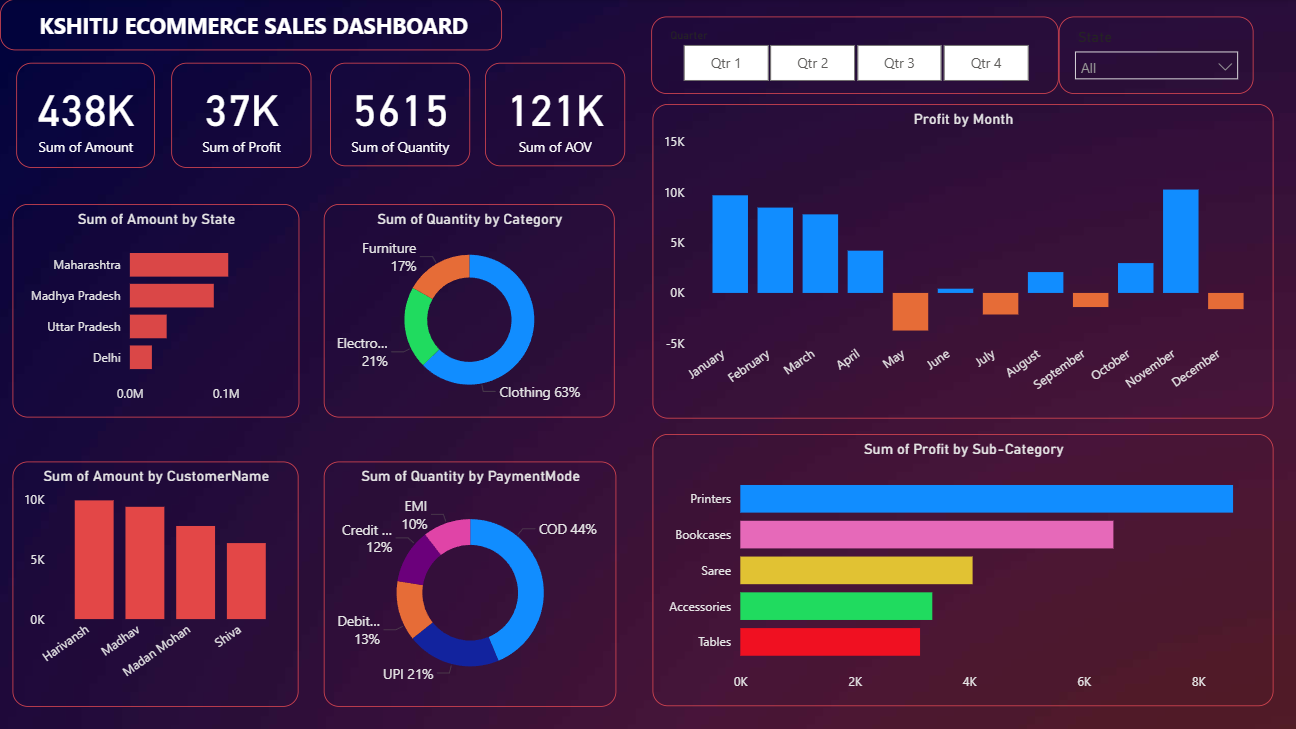

Layout of this report page (visuals, bound fields, positions):
{"tool":"powerbi","page":{"name":"Page 1","canvas":[1280,720],"ordinal":0},"visuals":[{"type":"textbox","box":[0,0,492.6,50.8],"z":0},{"type":"columnChart","title":"Profit by Month","fields":{"Category":["Orders.Order Date.Variation.Date Hierarchy.Month"],"Y":["Sum(Details.Profit)"]},"box":[640.8,102.9,609.3,308.7],"z":1000},{"type":"barChart","fields":{"Category":["Details.Sub-Category"],"Y":["Sum(Details.Profit)"]},"box":[640.5,427,609.8,267.5],"z":2000},{"type":"donutChart","fields":{"Category":["Details.Category"],"Y":["Sum(Details.Quantity)"]},"box":[318.4,201.7,285.4,209.9],"z":3000},{"type":"donutChart","fields":{"Category":["Details.PaymentMode"],"Y":["Sum(Details.Quantity)"]},"box":[317.8,454,287.1,240.5],"z":4000},{"type":"card","fields":{"Values":["Sum(Details.Amount)"]},"box":[16,62.6,136.2,103.1],"z":5000},{"type":"card","fields":{"Values":["Sum(Details.Profit)"]},"box":[168.1,62.6,137.4,103.1],"z":6000},{"type":"card","fields":{"Values":["Sum(Details.Quantity)"]},"box":[323.9,62.6,137.4,101.8],"z":7000},{"type":"card","fields":{"Values":["Sum(Details.AOV)"]},"box":[476.1,62.6,137.4,101.8],"z":8000},{"type":"barChart","fields":{"Category":["Orders.State"],"Y":["Sum(Details.Amount)"]},"box":[12.3,201.7,281.3,209.9],"z":9000},{"type":"columnChart","fields":{"Category":["Orders.CustomerName"],"Y":["Sum(Details.Amount)"]},"box":[12.3,454,281,240.5],"z":10000},{"type":"slicer","fields":{"Values":["Orders.Order Date.Variation.Date Hierarchy.Quarter"]},"box":[639.3,17.2,400,76.1],"z":11000},{"type":"slicer","fields":{"Values":["Orders.State"]},"box":[1039.3,17.2,191.4,76.1],"z":12000}]}

Visuals, with their boxes in screenshot pixels (x1, y1, x2, y2), scaled from the page's 1280x720 canvas onto the 1296x729 screenshot:
textbox: [x1=0, y1=0, x2=499, y2=51]
"Profit by Month" columnChart: [x1=649, y1=104, x2=1266, y2=417]
barChart - Details.Sub-Category x Sum(Details.Profit): [x1=649, y1=432, x2=1266, y2=703]
donutChart - Details.Category x Sum(Details.Quantity): [x1=322, y1=204, x2=611, y2=417]
donutChart - Details.PaymentMode x Sum(Details.Quantity): [x1=322, y1=460, x2=612, y2=703]
card - Sum(Details.Amount): [x1=16, y1=63, x2=154, y2=168]
card - Sum(Details.Profit): [x1=170, y1=63, x2=309, y2=168]
card - Sum(Details.Quantity): [x1=328, y1=63, x2=467, y2=166]
card - Sum(Details.AOV): [x1=482, y1=63, x2=621, y2=166]
barChart - Orders.State x Sum(Details.Amount): [x1=12, y1=204, x2=297, y2=417]
columnChart - Orders.CustomerName x Sum(Details.Amount): [x1=12, y1=460, x2=297, y2=703]
slicer - Orders.Order Date.Variation.Date Hierarchy.Quarter: [x1=647, y1=17, x2=1052, y2=94]
slicer - Orders.State: [x1=1052, y1=17, x2=1246, y2=94]
